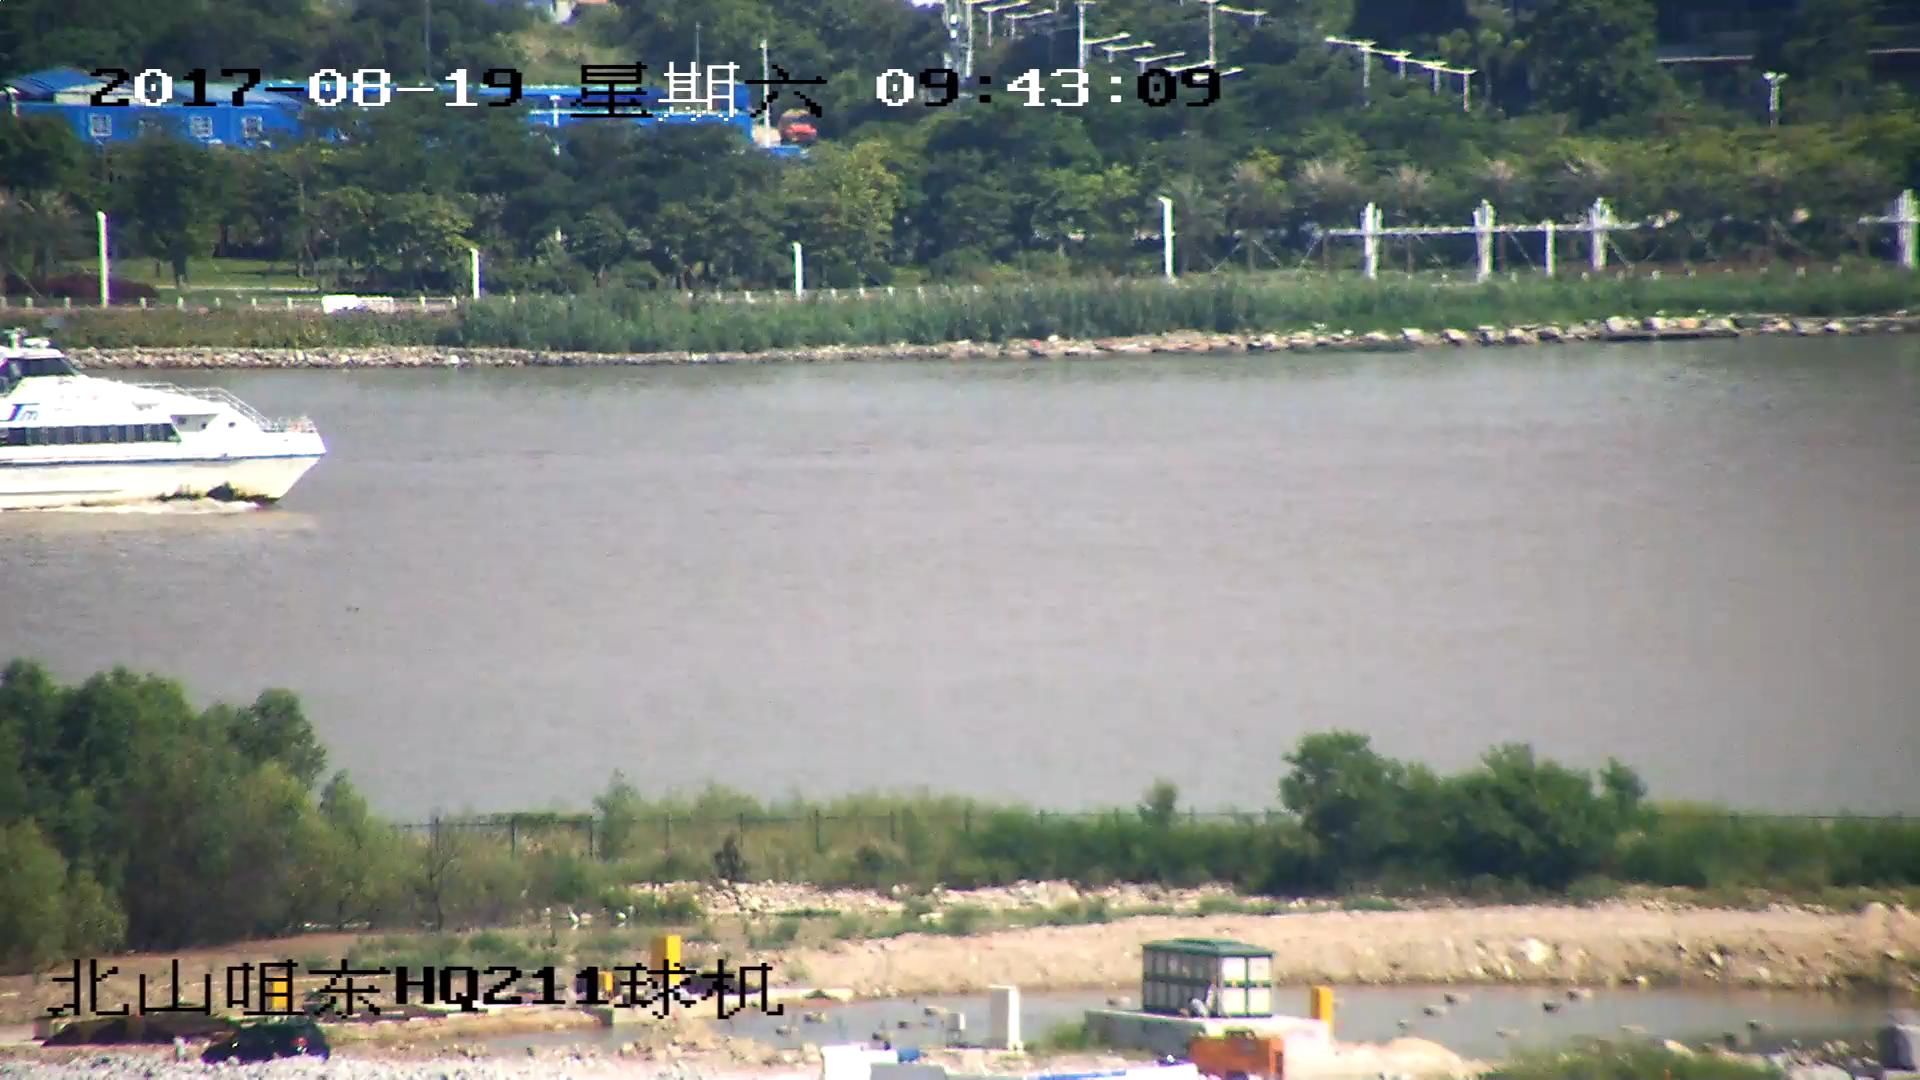passenger ship: (1, 328, 325, 515)
